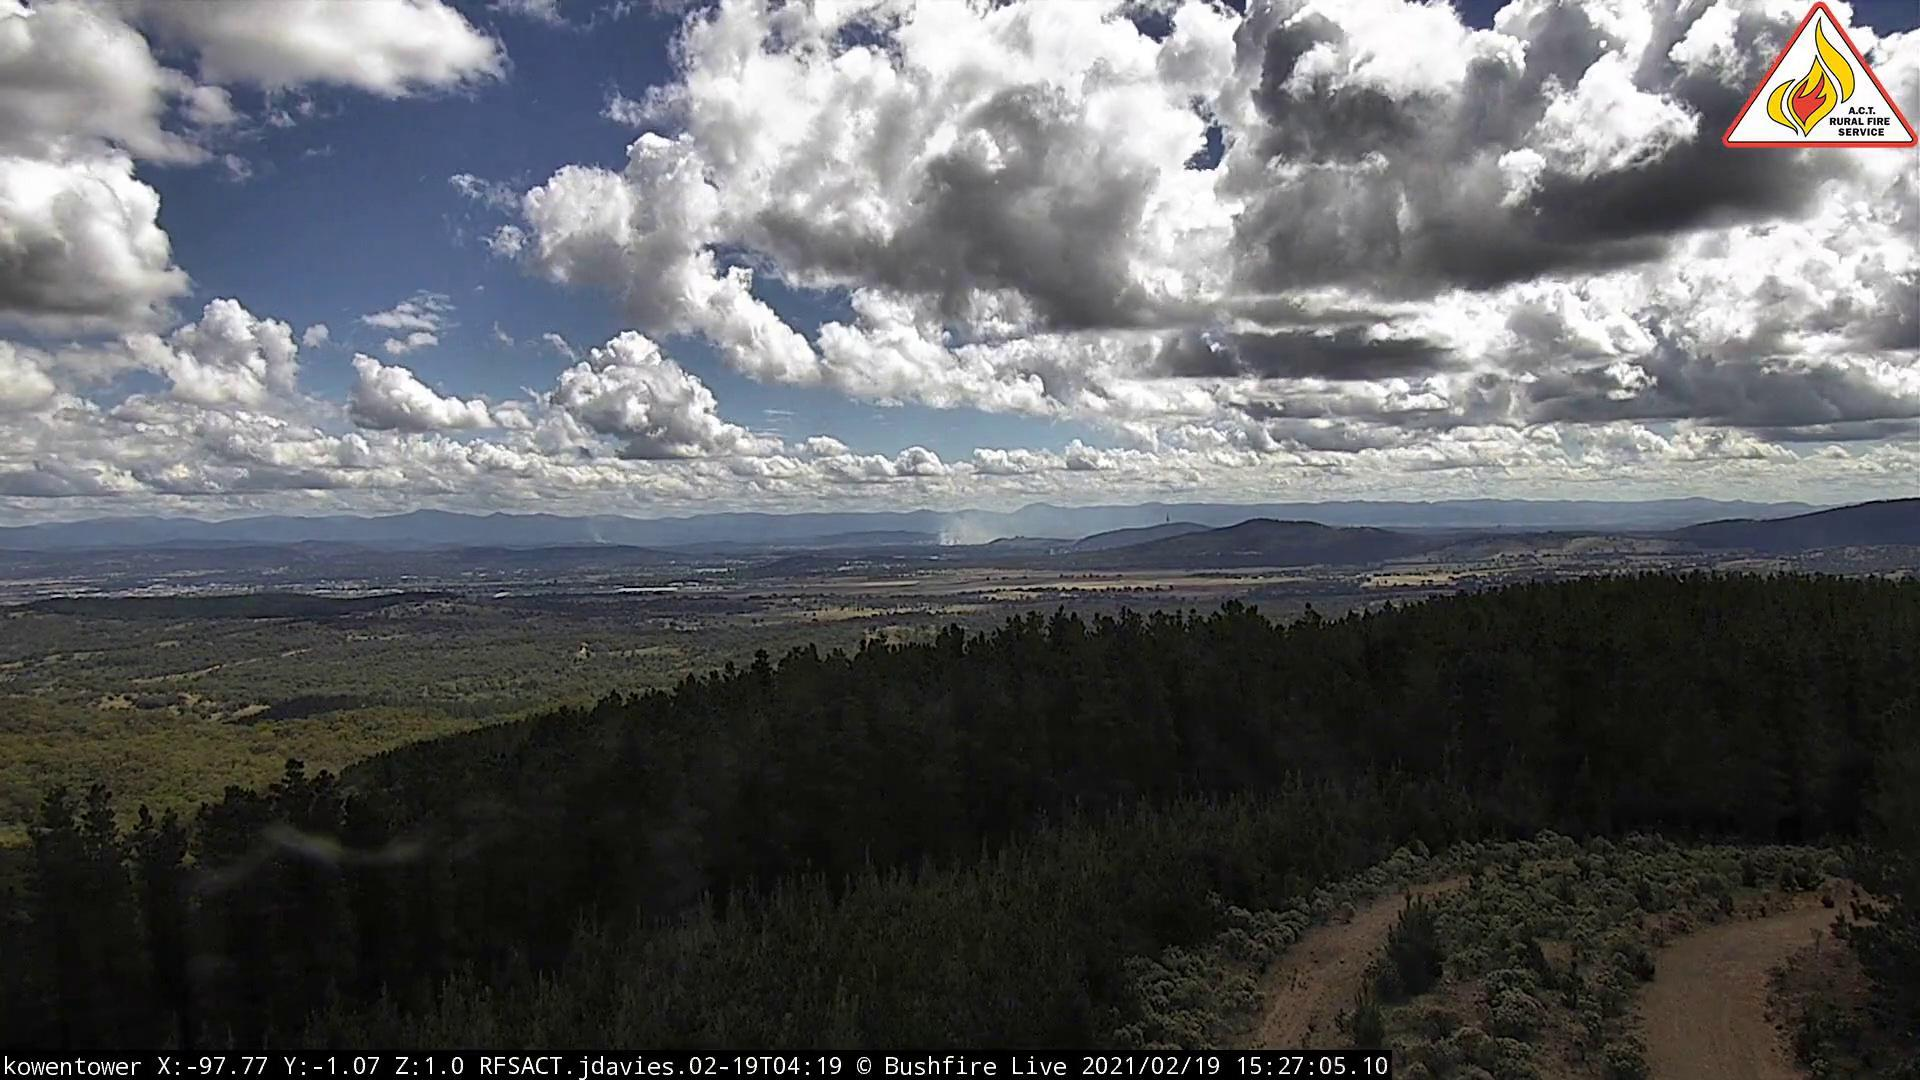Smoke: (927, 508, 1026, 553), (578, 518, 626, 553)
